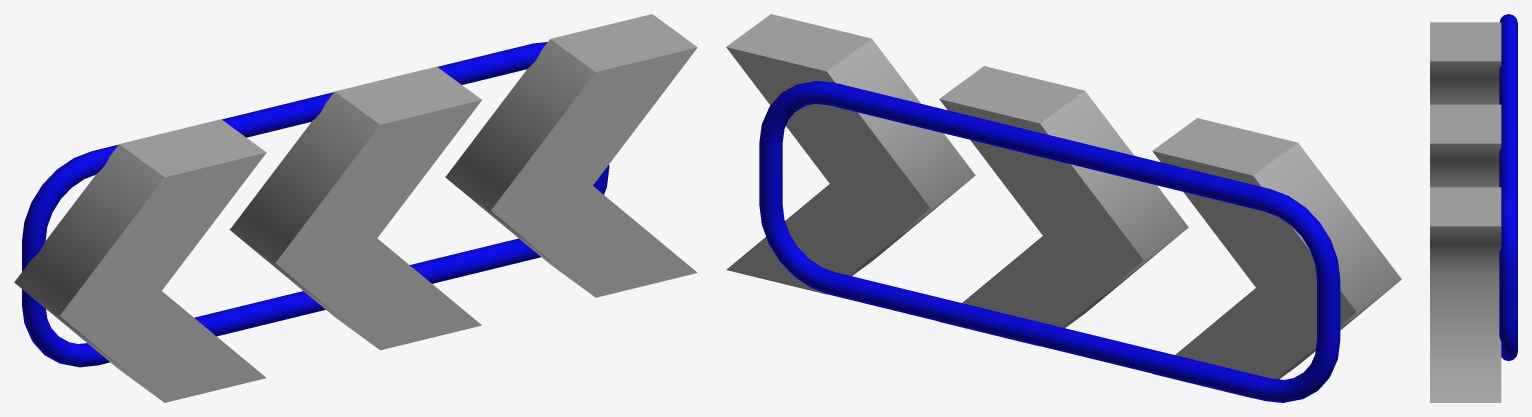
Rendered from prop_arrowsign.fbx.
3 views of the same model, side by side, from view 1: azimuth 30°, elevation 25°; view 2: azimuth 150°, elevation 25°; view 3: azimuth 270°, elevation 25° (orthographic). The views are drawn at different scales.
Visible parts, largest first — view 1: polySurface2; view 2: polySurface2; view 3: polySurface2.
Part boxes in pixels (x1,y1,x2,y2): polySurface2: (14, 14, 697, 402); polySurface2: (726, 14, 1401, 402); polySurface2: (1430, 14, 1517, 402).
Size of the model in its own units: 2.96 by 1 by 0.4504.
